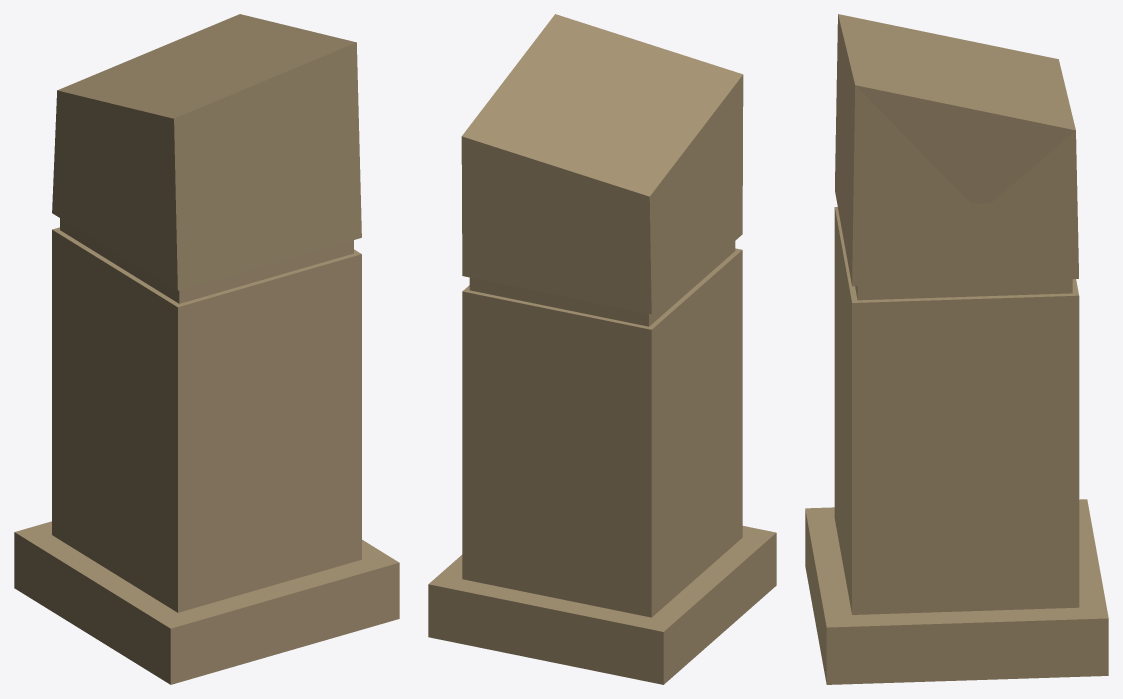
The model's file is ruine2.fbx.
3 renders of one model, left to right at view 1: azimuth 30°, elevation 25°; view 2: azimuth 150°, elevation 25°; view 3: azimuth 270°, elevation 25°, orthographic. The views are drawn at different scales.
Parts seen in each view (by area): view 1: Ruine; view 2: Ruine; view 3: Ruine.
Boxes of the visible parts, left/top/right/bottom form: Ruine: left=14, top=14, right=399, bottom=684; Ruine: left=428, top=14, right=776, bottom=684; Ruine: left=805, top=14, right=1108, bottom=684.
Size of the model in its own units: 215 by 457 by 215.
